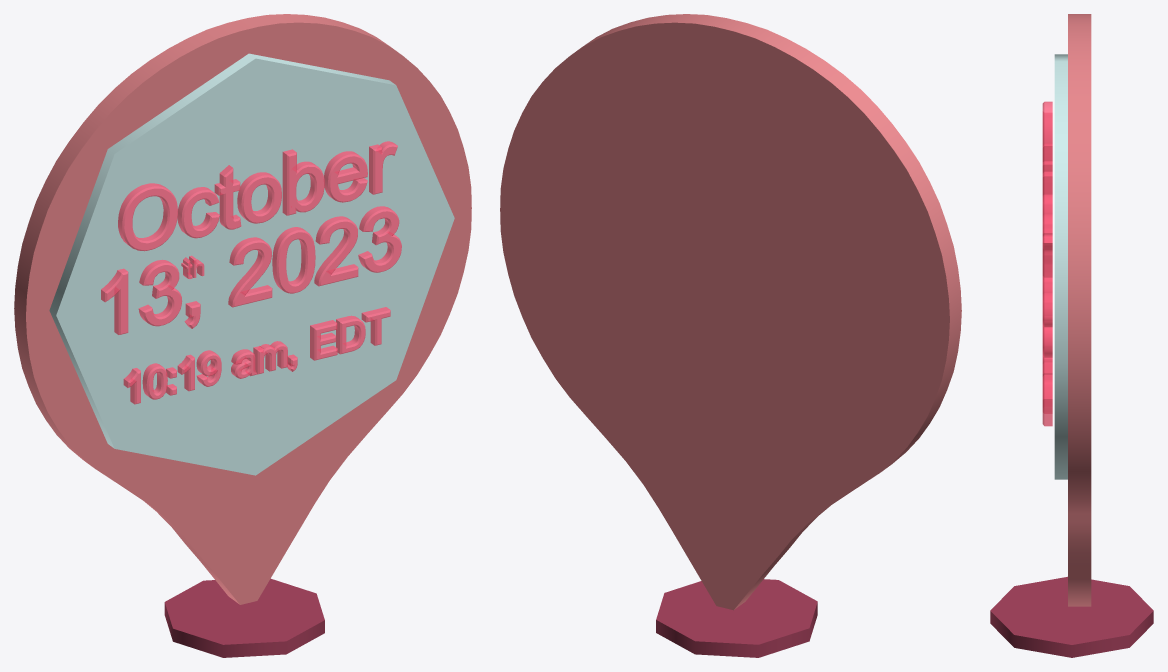
The model's file is launch-date-model-transformed.glb.
3 renders of one model, left to right at view 1: azimuth 30°, elevation 25°; view 2: azimuth 150°, elevation 25°; view 3: azimuth 270°, elevation 25°, orthographic. The views are drawn at different scales.
Visible parts, largest first — view 1: Object_9, Object_4, Object_12, Object_7; view 2: Object_4, Object_7; view 3: Object_4, Object_7, Object_9, Object_12.
Part boxes in pixels (x1,y1,x2,y2): Object_9: [49, 53, 454, 475]; Object_4: [14, 14, 471, 604]; Object_12: [101, 141, 401, 404]; Object_7: [164, 578, 324, 657]; Object_4: [500, 14, 961, 610]; Object_7: [656, 579, 817, 657]; Object_4: [1068, 14, 1091, 606]; Object_7: [990, 576, 1153, 657]; Object_9: [1054, 54, 1067, 479]; Object_12: [1042, 101, 1052, 426].
Size of the model in its own units: 10.85 by 13.86 by 3.5.
